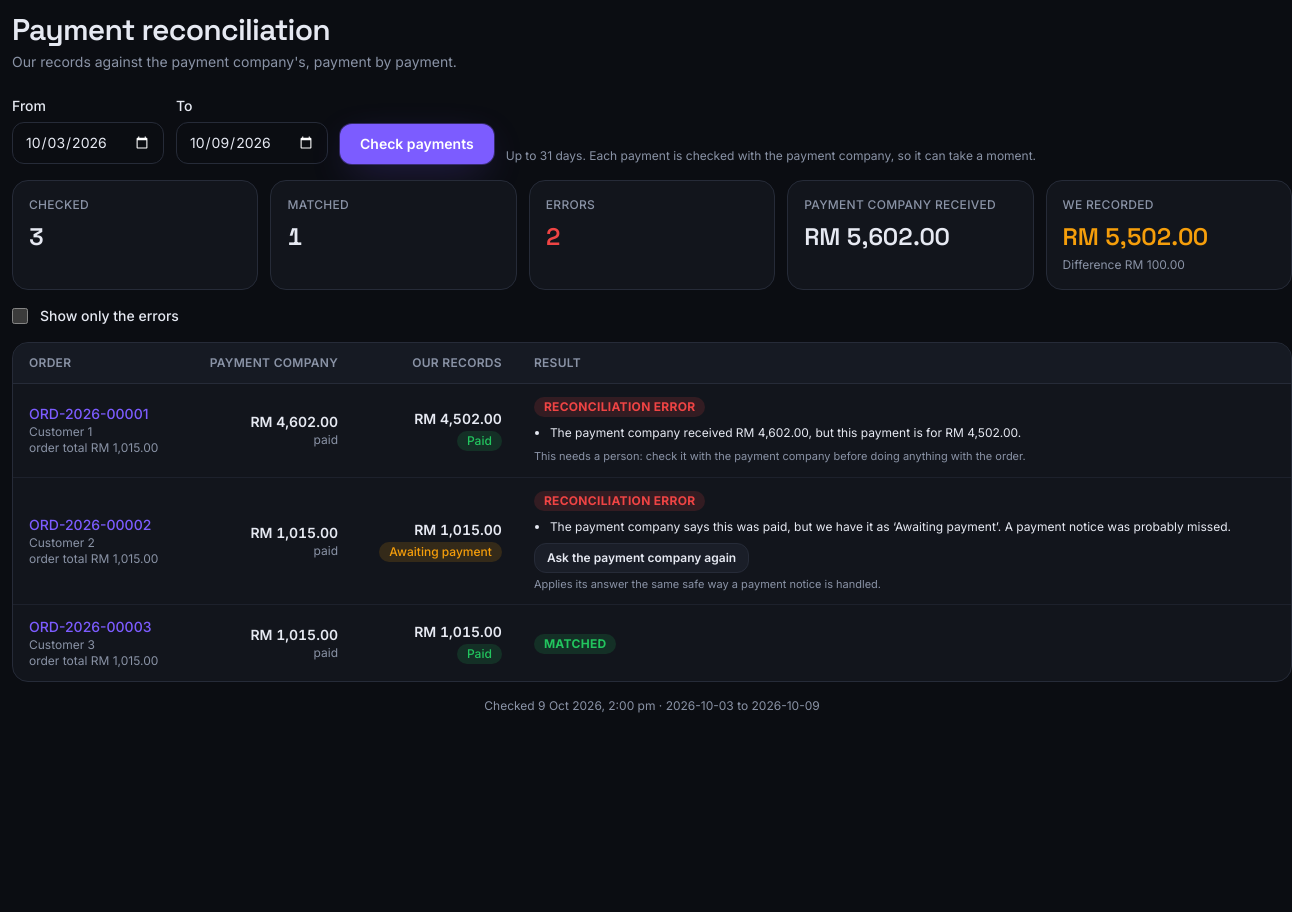
Test case: payment reconciliation › asks the payment company again, then checks again and says what happened
Click the button "Ask the payment company again": (642, 558) x1=534 y1=543 x2=749 y2=573
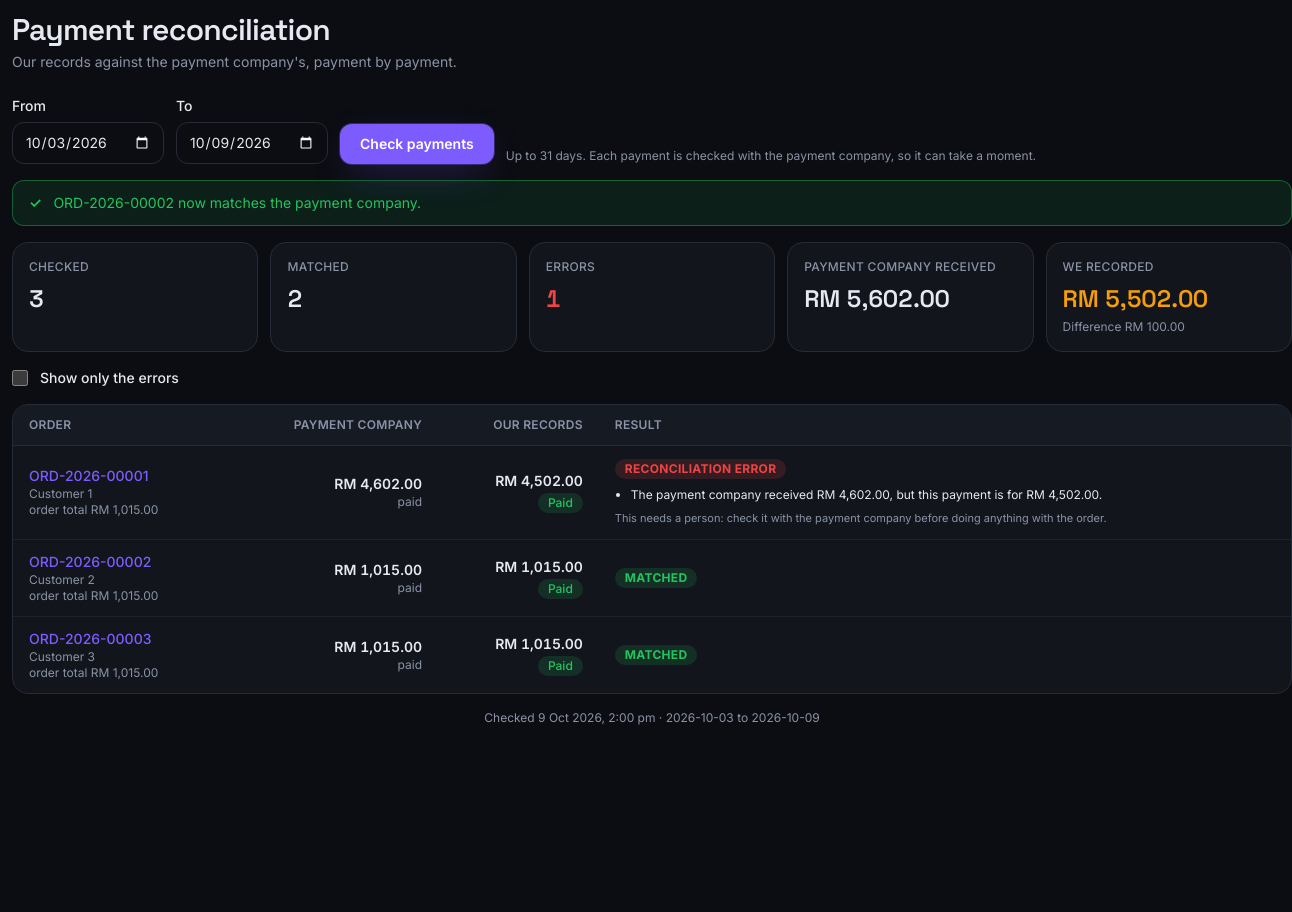
Expected: the text "ORD-2026-00002 now matches the payment company." is shown, x1=53 y1=193 x2=421 y2=213
Expected: the number of rows with test id "row-ERROR" is 1, x1=13 y1=446 x2=1291 y2=539
